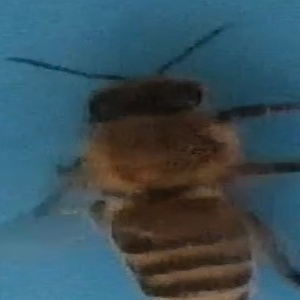bee: (13, 42, 297, 300)
